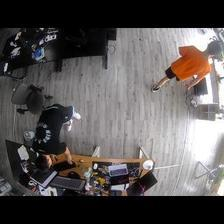normal: (152, 38, 223, 95), (33, 100, 79, 167)
